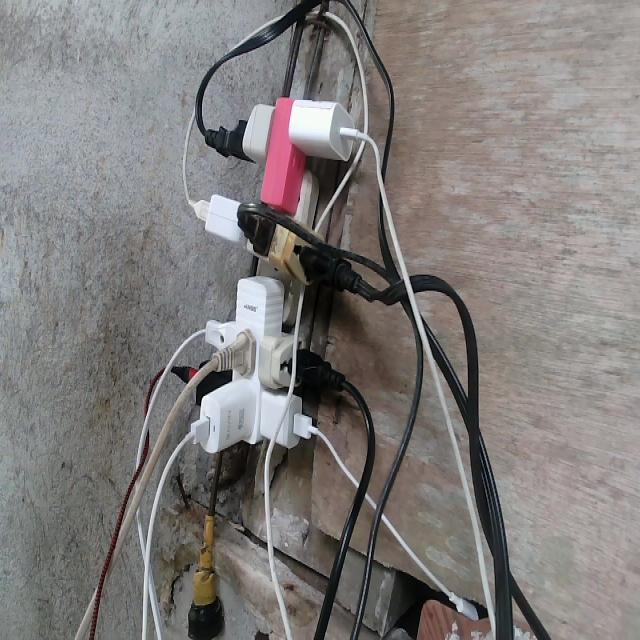-: (165, 92, 362, 461)
